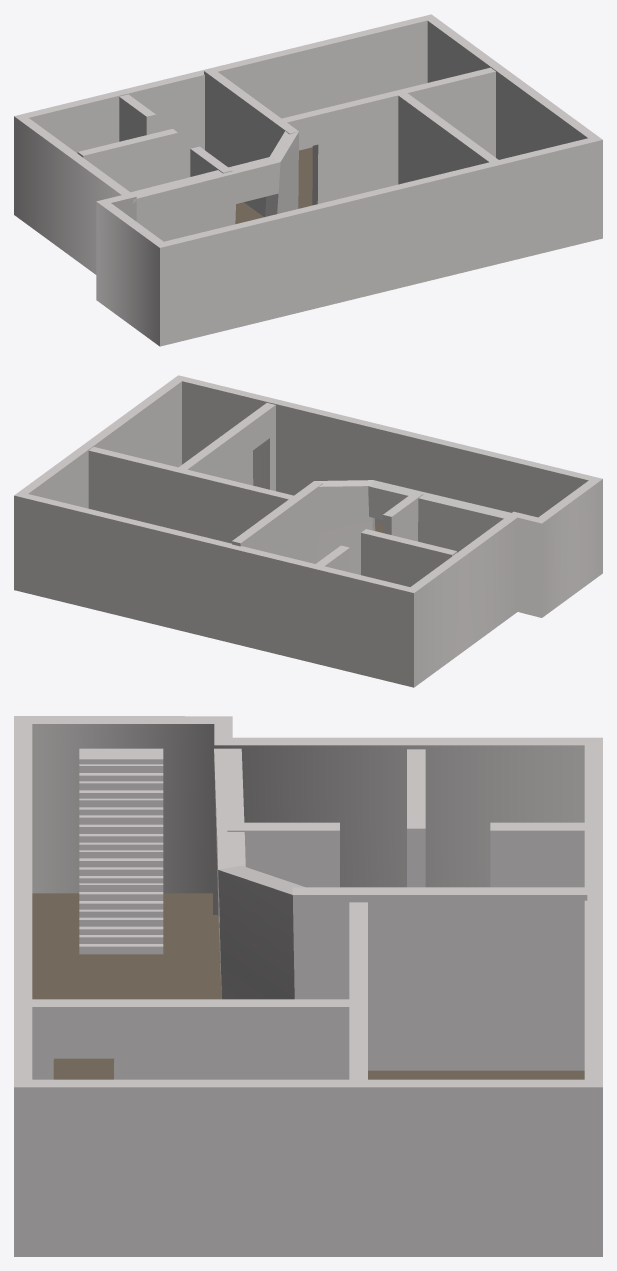
Rendered from basement.glb.
3 views of the same model, one above another, from view 1: azimuth 30°, elevation 25°; view 2: azimuth 150°, elevation 25°; view 3: azimuth 270°, elevation 25° (orthographic). The views are drawn at different scales.
Visible parts, largest first — view 1: Box348, Courtyard003, Box349, Box350, Box351, Box353, Box354, Box352; view 2: Box348, Courtyard003, Box349, Box350, Box351, Box352, Box353; view 3: Box348, Courtyard003, Box350, Box354, Box353, Box352, Box349, Box351, Box364, Box380, Box356, Box355 (+18 smaller).
Boxes of the visible parts, left/top/right/bottom form: Box348: left=14, top=14, right=602, bottom=346; Courtyard003: left=131, top=68, right=298, bottom=241; Box349: left=282, top=67, right=495, bottom=205; Box350: left=395, top=91, right=498, bottom=184; Box351: left=77, top=129, right=177, bottom=192; Box353: left=119, top=94, right=155, bottom=141; Box354: left=235, top=147, right=312, bottom=224; Box352: left=190, top=146, right=232, bottom=176; Box348: left=14, top=375, right=602, bottom=687; Courtyard003: left=232, top=480, right=511, bottom=574; Box349: left=88, top=447, right=293, bottom=543; Box350: left=175, top=403, right=275, bottom=490; Box351: left=361, top=529, right=456, bottom=586; Box352: left=383, top=492, right=423, bottom=541; Box353: left=316, top=545, right=349, bottom=572; Box348: left=14, top=716, right=602, bottom=1256; Courtyard003: left=214, top=748, right=587, bottom=1070; Box350: left=32, top=999, right=361, bottom=1079; Box354: left=32, top=893, right=584, bottom=1079; Box353: left=490, top=822, right=584, bottom=887; Box352: left=227, top=822, right=339, bottom=887; Box349: left=349, top=902, right=367, bottom=1079; Box351: left=407, top=749, right=425, bottom=887; Box364: left=79, top=748, right=163, bottom=764; Box380: left=79, top=944, right=163, bottom=954; Box356: left=79, top=815, right=163, bottom=824; Box355: left=79, top=824, right=163, bottom=833.
Size of the model in its own units: 0.7848 by 0.1837 by 0.5261.
